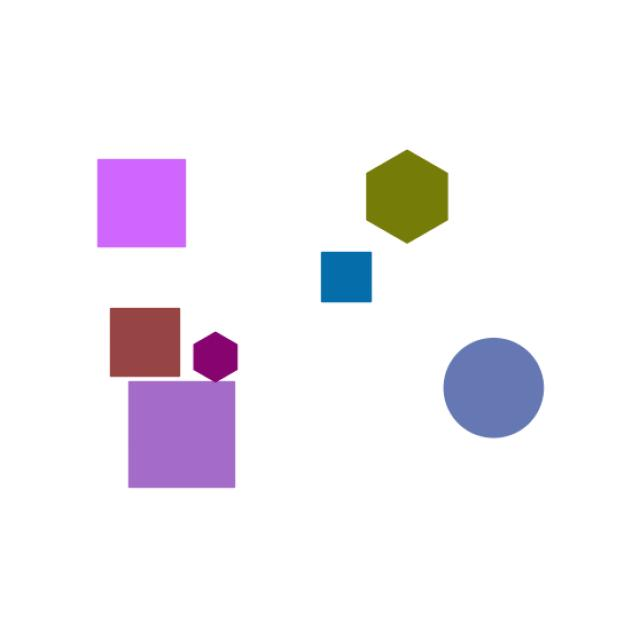Circle: (433, 318, 559, 459)
Hexagon: (347, 129, 490, 266), (188, 324, 249, 394)
square: (118, 372, 255, 508), (79, 134, 202, 258), (298, 234, 400, 316), (98, 295, 190, 383)
